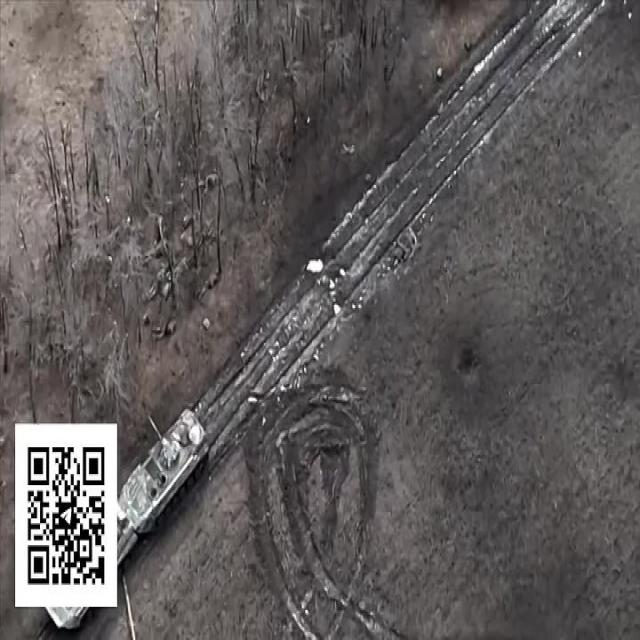apc: (119, 406, 211, 536)
